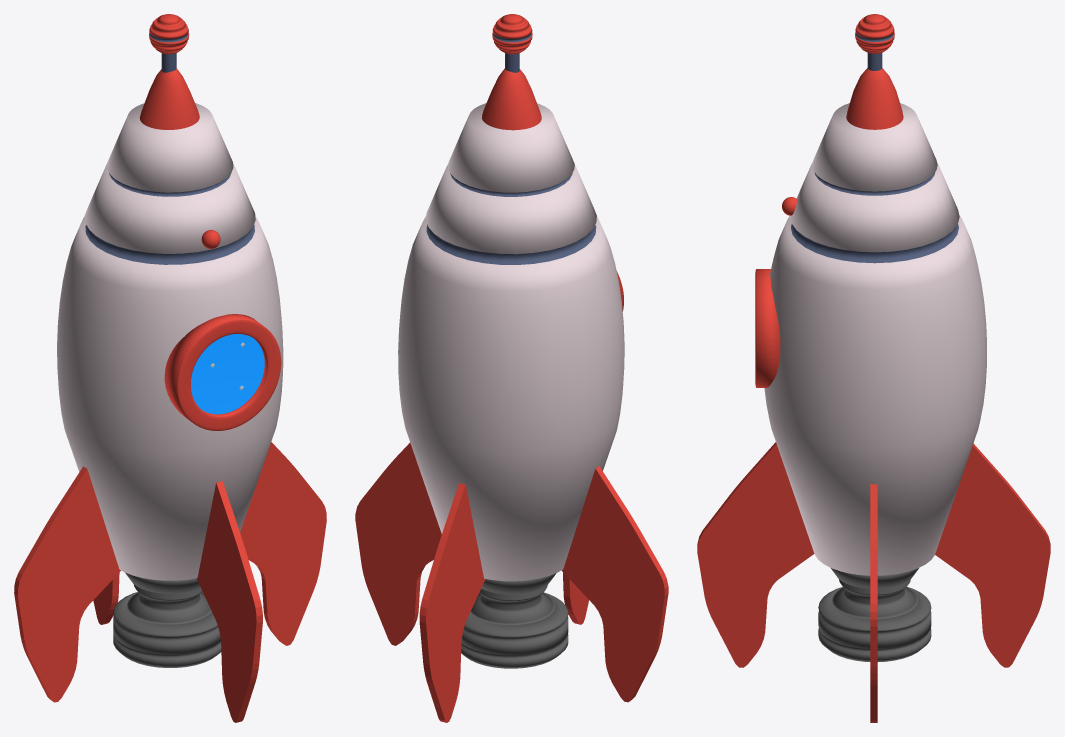
Rendered from rocket1.glb.
The picture shows the model from 3 angles, left to right: view 1: azimuth 30°, elevation 25°; view 2: azimuth 150°, elevation 25°; view 3: azimuth 270°, elevation 25°; orthographic projection.
Visible parts, largest first — view 1: Rocket_base, Flipper4, Flipper2, Rocket_glass, Flipper1, Rocket_thrusters, Rocket_nose, Rocket_tip, Flipper3; view 2: Rocket_base, Flipper4, Flipper2, Flipper3, Rocket_thrusters, Rocket_nose, Rocket_tip, Flipper1; view 3: Rocket_base, Flipper1, Flipper3, Rocket_thrusters, Rocket_nose, Rocket_glass, Flipper2, Rocket_tip.
Boxes of the visible parts, <box> form: Rocket_base: <box>57,103,283,580</box>; Flipper4: <box>14,466,120,702</box>; Flipper2: <box>240,442,326,645</box>; Rocket_glass: <box>164,314,281,430</box>; Flipper1: <box>196,481,262,722</box>; Rocket_thrusters: <box>113,572,221,667</box>; Rocket_nose: <box>139,68,199,129</box>; Rocket_tip: <box>149,14,189,54</box>; Flipper3: <box>93,572,119,624</box>; Rocket_base: <box>398,103,624,581</box>; Flipper4: <box>562,466,668,702</box>; Flipper2: <box>355,442,441,645</box>; Flipper3: <box>419,483,485,722</box>; Rocket_thrusters: <box>461,573,568,668</box>; Rocket_nose: <box>482,68,541,130</box>; Rocket_tip: <box>492,14,532,54</box>; Flipper1: <box>563,572,588,624</box>; Rocket_base: <box>764,103,986,575</box>; Flipper1: <box>697,442,814,667</box>; Flipper3: <box>935,443,1050,667</box>; Rocket_thrusters: <box>818,568,931,661</box>; Rocket_nose: <box>846,68,903,129</box>; Rocket_glass: <box>755,269,780,387</box>; Flipper2: <box>870,484,877,722</box>; Rocket_tip: <box>855,14,894,53</box>.
Bounding box in the file's own units: 0.3741 × 0.7597 × 0.3741.
